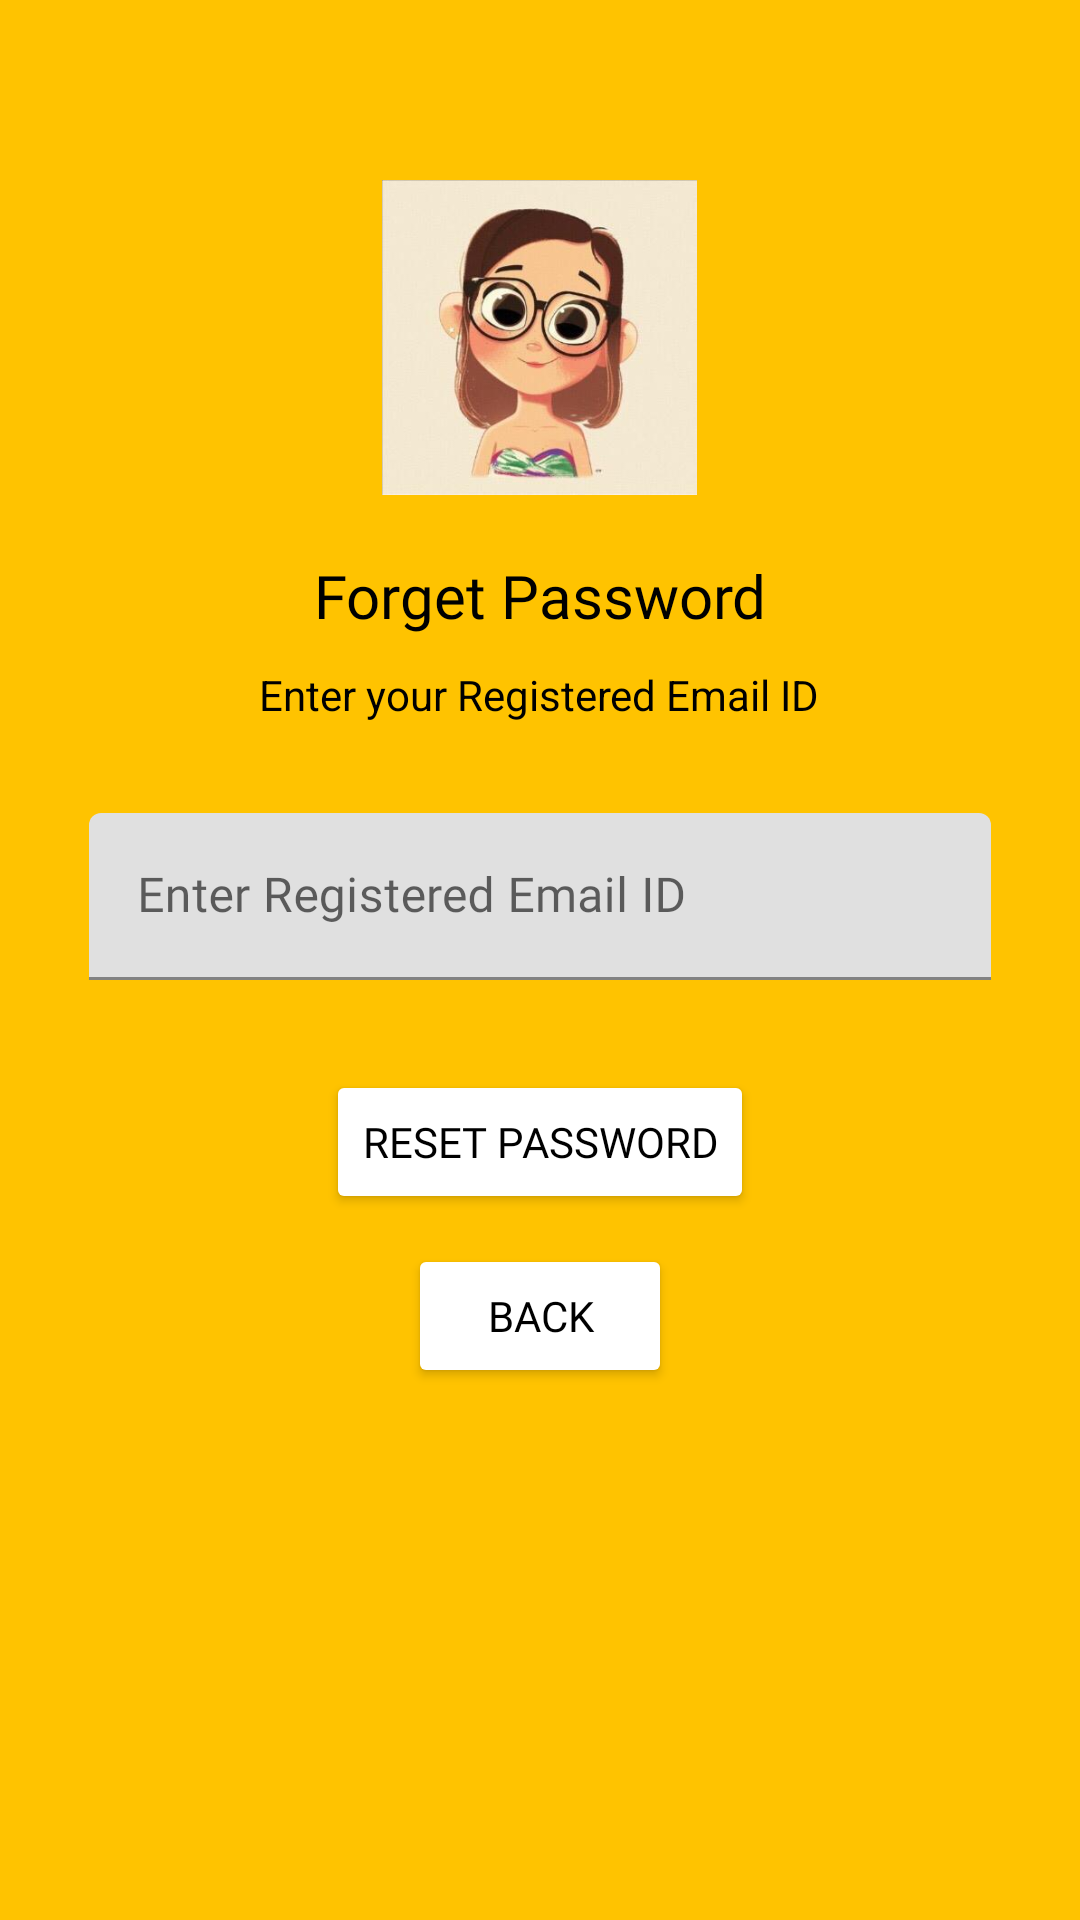

Screen size 1080px x 1920px. Icon name, then its box in pixels as {"x1": x1, "y1": y1, "x2": x2, "y2": y2}:
user: {"x1": 382, "y1": 180, "x2": 697, "y2": 495}
